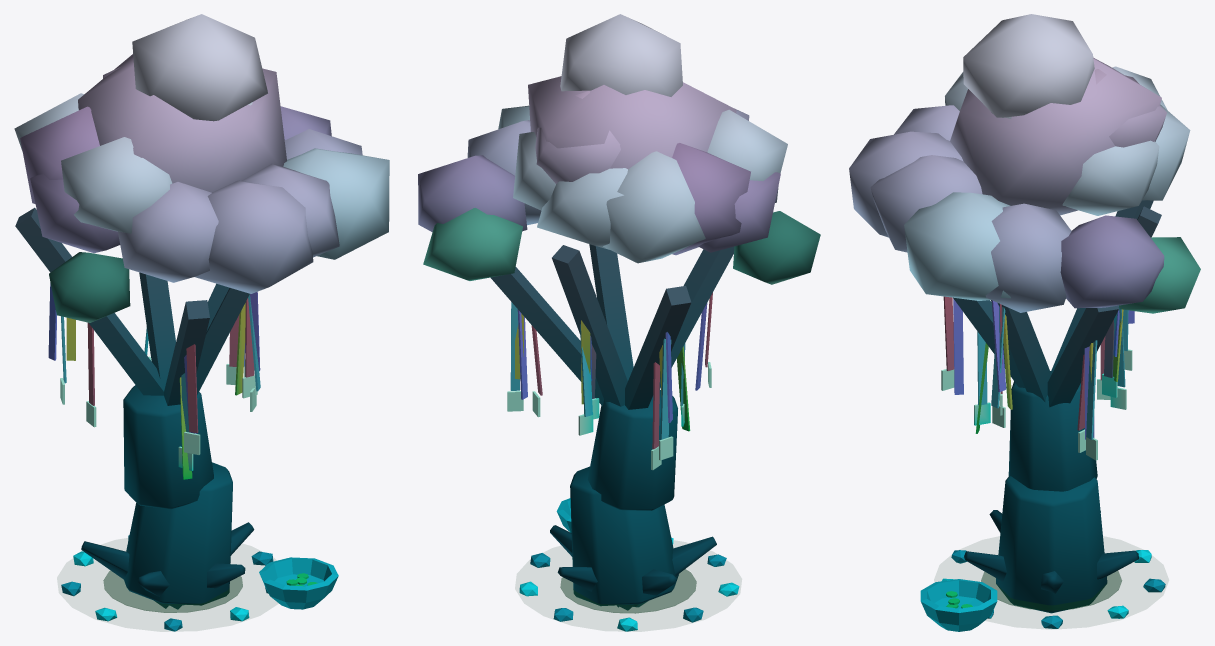
The model's file is wishing_tree.glb.
3 views of the same model, side by side, from view 1: azimuth 30°, elevation 25°; view 2: azimuth 150°, elevation 25°; view 3: azimuth 270°, elevation 25° (orthographic). The views are drawn at different scales.
Parts seen in each view (by area): view 1: wishing_tree; view 2: wishing_tree; view 3: wishing_tree.
Boxes of the visible parts, left/top/right/bottom form: wishing_tree: left=14, top=14, right=389, bottom=631; wishing_tree: left=418, top=14, right=820, bottom=631; wishing_tree: left=849, top=14, right=1200, bottom=631.
Size of the model in its own units: 2.33 by 3.92 by 2.09.
